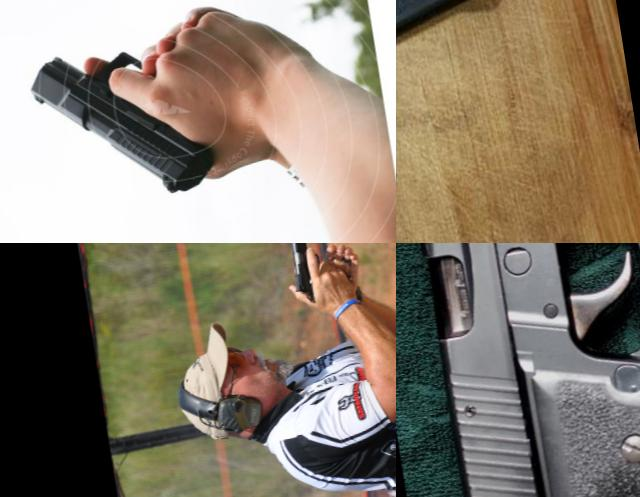handgun: (396, 243, 640, 497), (396, 0, 596, 243), (22, 26, 230, 216), (280, 243, 342, 306)
